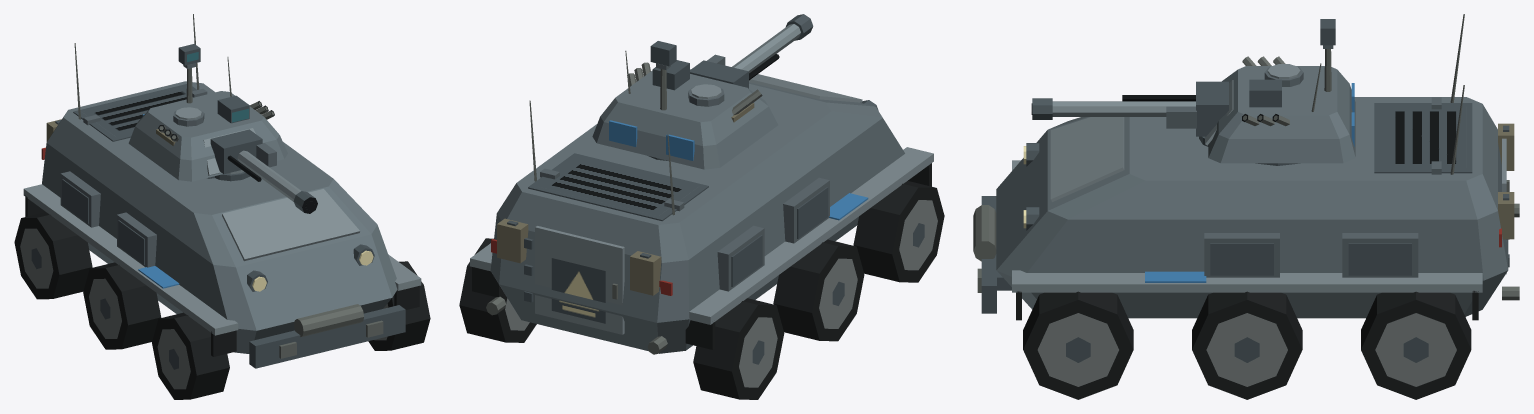
File: scout.glb
3 renders of one model, left to right at view 1: azimuth 30°, elevation 25°; view 2: azimuth 150°, elevation 25°; view 3: azimuth 270°, elevation 25°, orthographic. The views are drawn at different scales.
Visible parts, largest first — view 1: Base, Turret, WheelL2, WheelL3, WheelL1, Gun, WheelR1; view 2: Base, Turret, WheelL1, WheelL2, WheelL3, WheelR3, Gun; view 3: Base, Turret, WheelR1, WheelR2, WheelR3, Gun.
Part boxes in pixels (<box>): Base: <box>23,14,421,368</box>; Turret: <box>128,43,287,181</box>; WheelL2: <box>83,262,161,349</box>; WheelL3: <box>14,212,92,299</box>; WheelL1: <box>152,312,229,399</box>; Gun: <box>210,129,317,213</box>; WheelR1: <box>368,261,430,350</box>; Base: <box>470,69,933,354</box>; Turret: <box>592,41,778,169</box>; WheelL1: <box>853,181,944,282</box>; WheelL2: <box>773,239,864,341</box>; WheelL3: <box>693,298,784,399</box>; WheelR3: <box>459,238,536,342</box>; Gun: <box>690,14,813,88</box>; Base: <box>973,14,1519,320</box>; Turret: <box>1205,19,1355,165</box>; WheelR1: <box>1023,291,1133,399</box>; WheelR2: <box>1192,291,1302,399</box>; WheelR3: <box>1361,291,1471,399</box>; Gun: <box>1031,81,1228,136</box>.
Size of the model in its own units: 32.5 by 33 by 53.35.
1 material, 1 textured.
